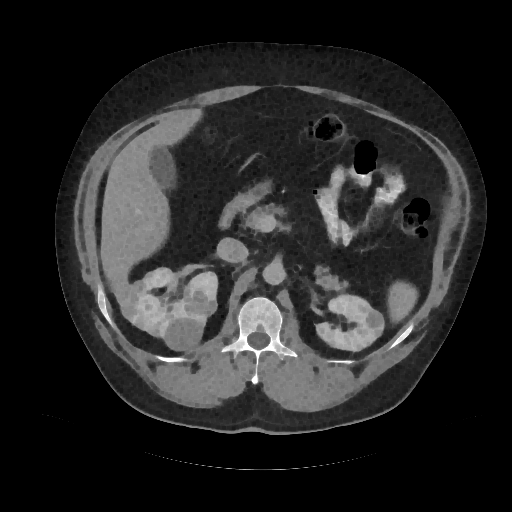Lesion: (160, 318, 208, 356), (364, 305, 387, 335)
